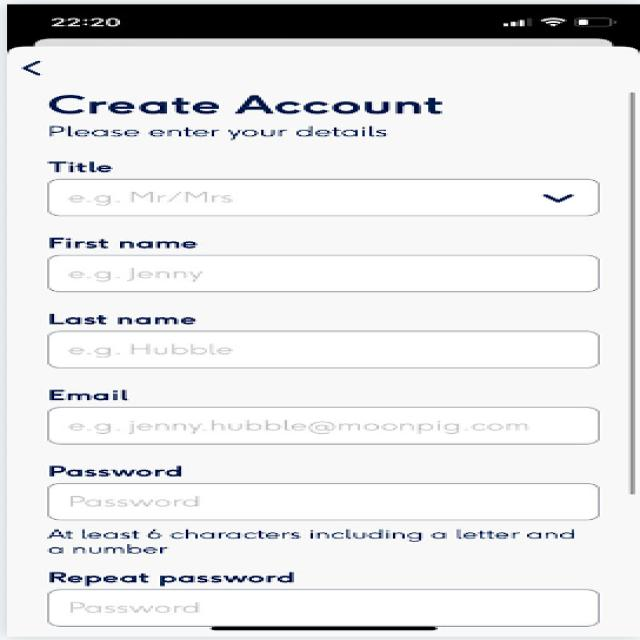icon button: (0, 50, 78, 80)
input: (18, 374, 621, 454), (18, 227, 614, 304), (15, 149, 609, 226), (27, 456, 607, 528), (21, 307, 612, 377), (25, 566, 633, 630)
text: (27, 83, 494, 140)
